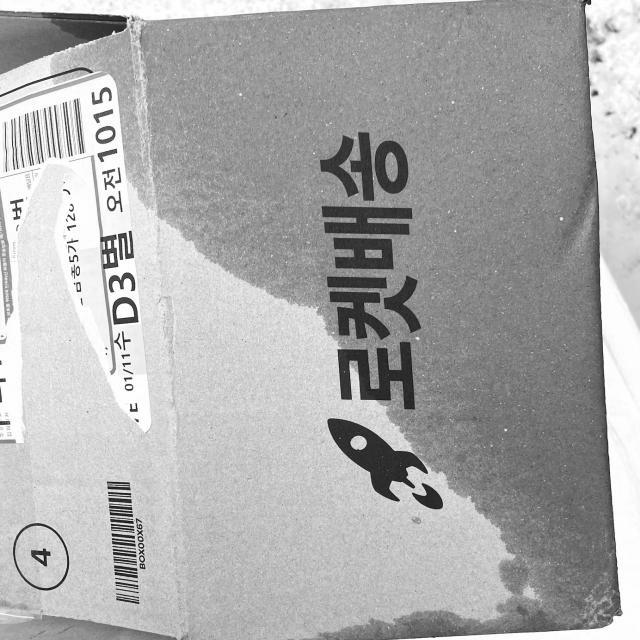wet: (126, 2, 619, 639)
